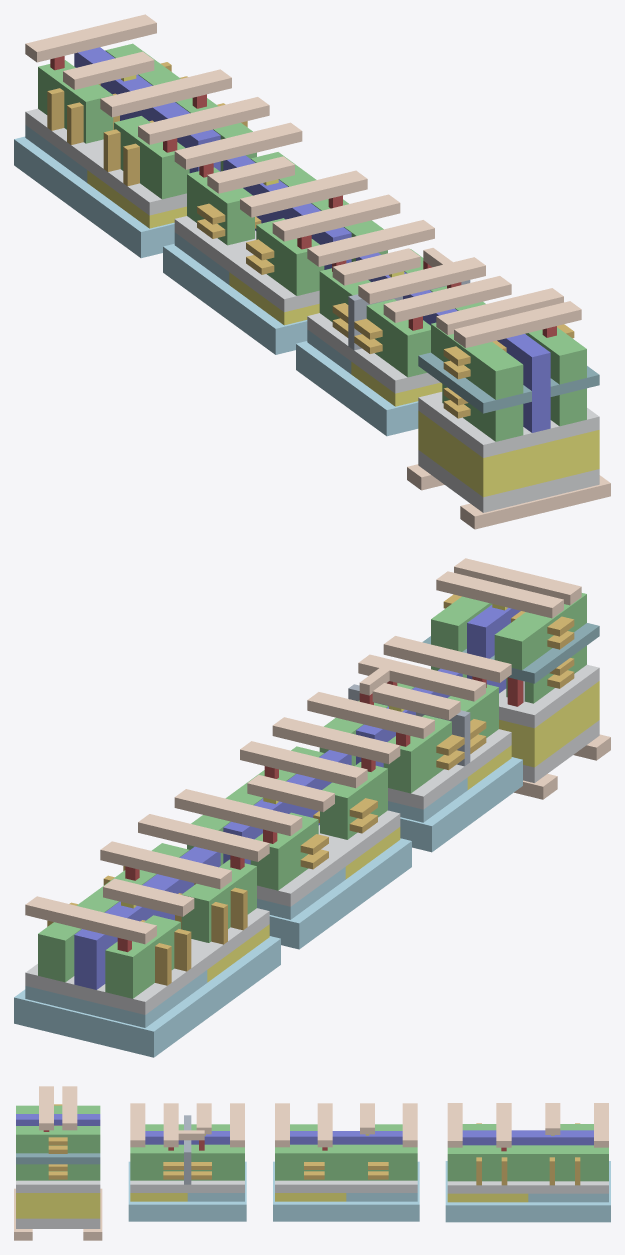
Rendered from show_cmp.glb.
3 views of the same model, one above another, from view 1: azimuth 30°, elevation 25°; view 2: azimuth 150°, elevation 25°; view 3: azimuth 270°, elevation 25° (orthographic). The views are drawn at different scales.
Parts seen in each view (by area): view 1: show_cfet_nwell, show_fin_pwell, show_ns_pwell, show_fs_pwell, show_cfet_fox, show_ns_fox, show_fin_fox, show_cfet_md_gnd, show_cfet_bild, show_fin_md_vdd, show_fin_m0_out, show_fin_m0_gnd (+38 smaller); view 2: show_fin_pwell, show_ns_pwell, show_fin_fox, show_fs_pwell, show_fin_po, show_cfet_nwell, show_ns_fox, show_fin_md_gnd, show_fin_md_out, show_cfet_md_gnd, show_fin_m0_gnd, show_fin_m0_out (+38 smaller); view 3: show_fin_md_out, show_ns_md_out, show_fin_pwell, show_ns_pwell, show_fs_md_out, show_fs_pwell, show_cfet_nwell, show_fin_fox, show_cfet_md_outt, show_ns_fox, show_fin_po, show_fs_fox (+34 smaller).
Boxes of the visible parts, x1=… form: show_cfet_nwell: x1=418, y1=411, x2=599, y2=497; show_fin_pwell: x1=14, y1=136, x2=174, y2=258; show_ns_pwell: x1=163, y1=243, x2=307, y2=354; show_fs_pwell: x1=296, y1=341, x2=418, y2=436; show_cfet_fox: x1=418, y1=392, x2=599, y2=457; show_ns_fox: x1=174, y1=216, x2=319, y2=312; show_fin_fox: x1=25, y1=108, x2=186, y2=215; show_cfet_md_gnd: x1=431, y1=322, x2=523, y2=399; show_cfet_bild: x1=418, y1=450, x2=599, y2=512; show_fin_md_vdd: x1=114, y1=116, x2=189, y2=199; show_fin_m0_out: x1=100, y1=69, x2=231, y2=117; show_fin_m0_gnd: x1=25, y1=14, x2=156, y2=62; show_fin_pwell: x1=14, y1=936, x2=280, y2=1057; show_ns_pwell: x1=269, y1=838, x2=411, y2=949; show_fin_fox: x1=25, y1=908, x2=269, y2=1014; show_fs_pwell: x1=400, y1=757, x2=522, y2=852; show_fin_po: x1=74, y1=846, x2=220, y2=989; show_cfet_nwell: x1=499, y1=681, x2=599, y2=767; show_ns_fox: x1=257, y1=810, x2=400, y2=906; show_fin_md_gnd: x1=105, y1=915, x2=180, y2=998; show_fin_md_out: x1=38, y1=843, x2=189, y2=982; show_cfet_md_gnd: x1=494, y1=593, x2=586, y2=670; show_fin_m0_gnd: x1=25, y1=896, x2=156, y2=944; show_fin_m0_out: x1=100, y1=841, x2=231, y2=889; show_fin_md_out: x1=447, y1=1145, x2=608, y2=1181; show_ns_md_out: x1=275, y1=1144, x2=417, y2=1180; show_fin_pwell: x1=445, y1=1161, x2=610, y2=1222; show_ns_pwell: x1=273, y1=1161, x2=419, y2=1221; show_fs_md_out: x1=130, y1=1144, x2=244, y2=1180; show_fs_pwell: x1=128, y1=1161, x2=246, y2=1221; show_cfet_nwell: x1=16, y1=1193, x2=100, y2=1218; show_fin_fox: x1=447, y1=1181, x2=608, y2=1193; show_cfet_md_outt: x1=16, y1=1126, x2=100, y2=1153; show_ns_fox: x1=275, y1=1180, x2=417, y2=1192; show_fin_po: x1=462, y1=1130, x2=593, y2=1145; show_fs_fox: x1=130, y1=1180, x2=244, y2=1192.
Bounding box in the file's own units: 112 × 134 × 636.
